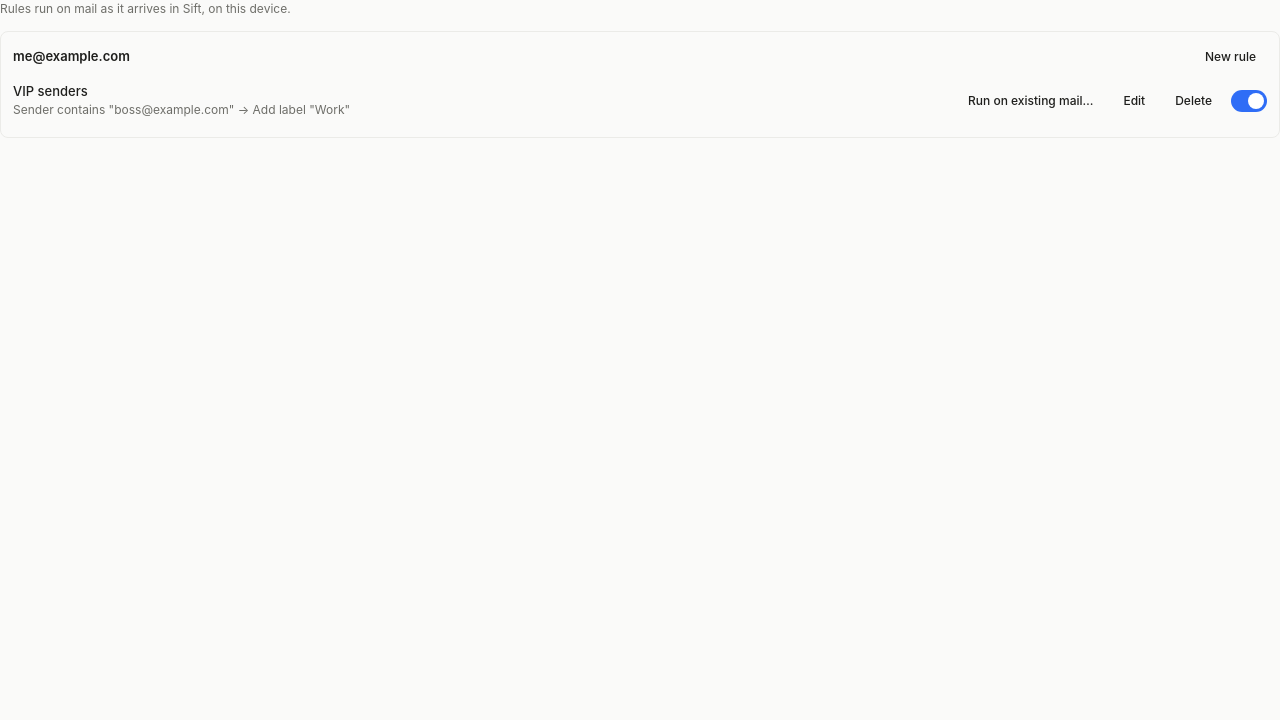
it: Settings -> Rules (P8.3) › applies to existing mail only after the count is confirmed
Expected: the text "VIP senders" is shown, [13,83,88,99]
Click the button "Run on existing mail…" at (1031, 100), box [957,86,1104,114]
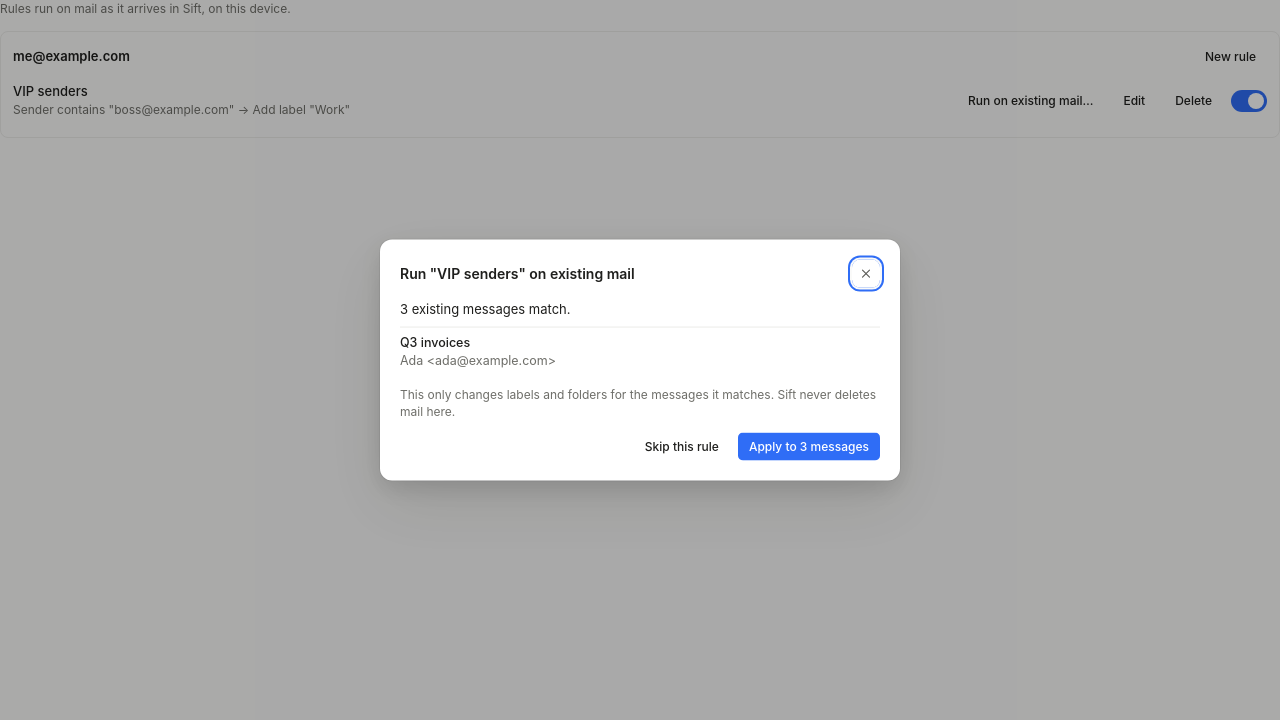
Now the text "3 existing messages match." is shown, box [400,301,570,317]
Now the text "Q3 invoices" is shown, box [400,334,470,349]
Click the button "Apply to 3 messages" at (809, 446), box [738,432,880,460]
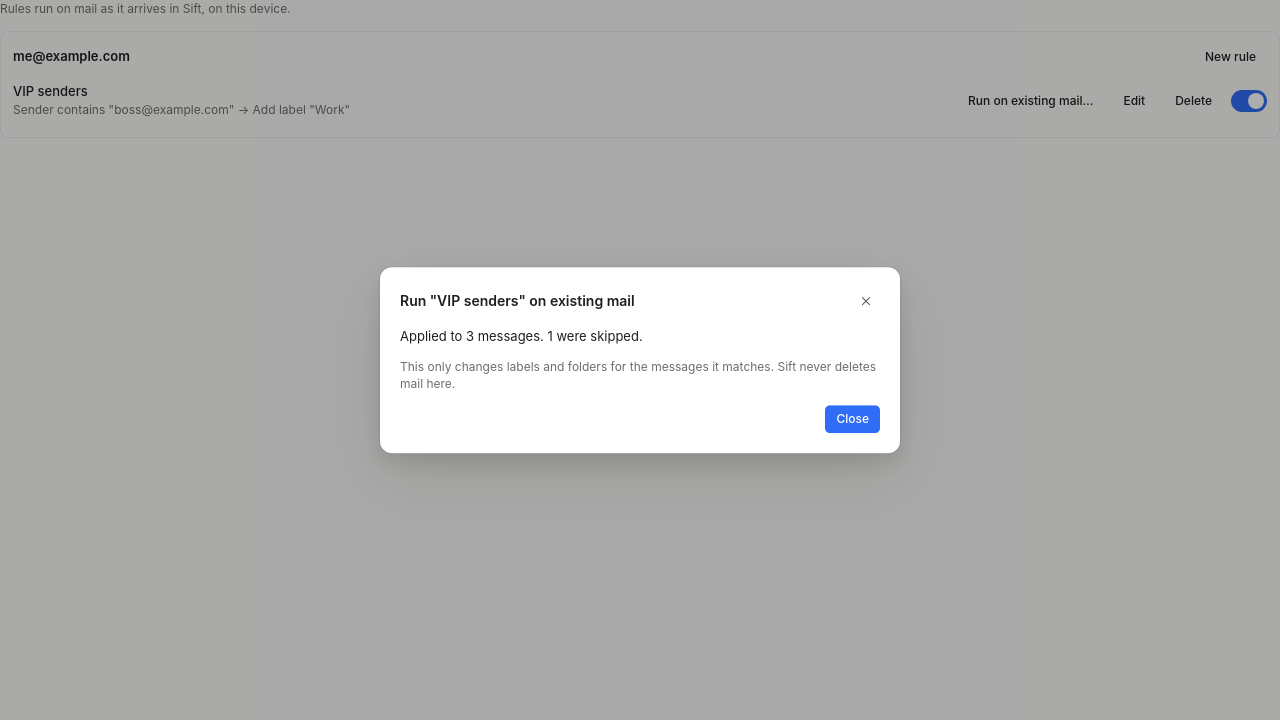
Now the text "Applied to 3 messages. 1 were skipped." is shown, box [400,328,643,344]
